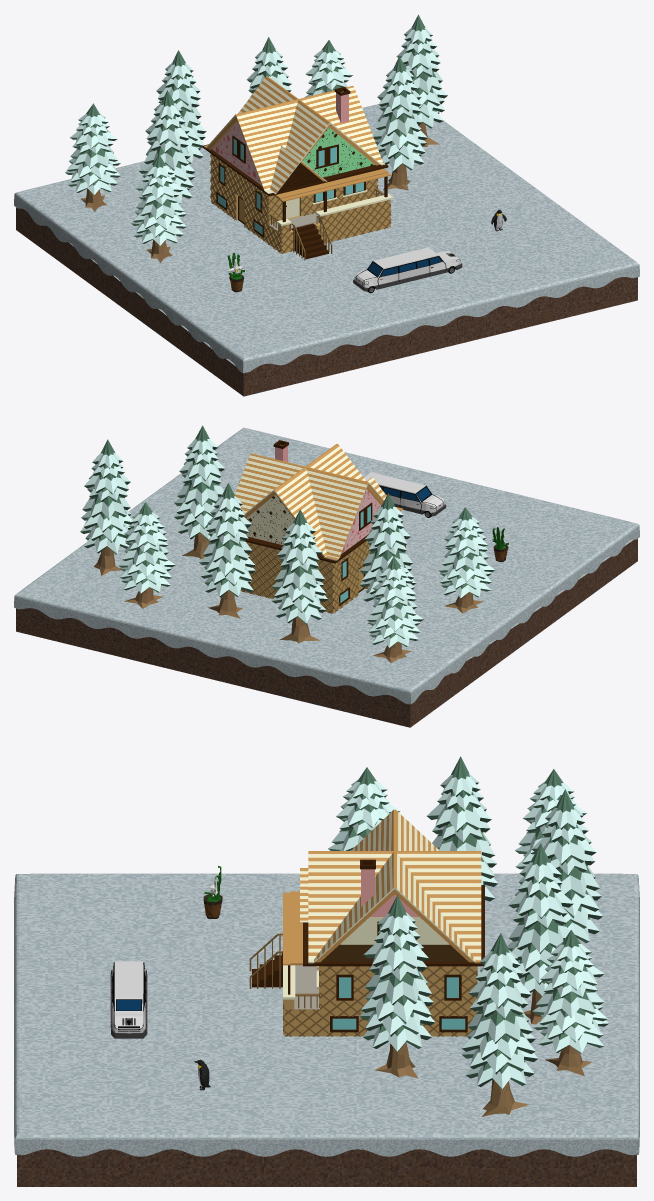
3 views of the same model, one above another, from view 1: azimuth 30°, elevation 25°; view 2: azimuth 150°, elevation 25°; view 3: azimuth 270°, elevation 25° (orthographic). The views are drawn at different scales.
Parts seen in each view (by area): view 1: Cube.003, Cube.1102, VEHICLES_LIMOUSINE; view 2: Cube.003, Cube.1102, VEHICLES_LIMOUSINE; view 3: Cube.003, Cube.1102, VEHICLES_LIMOUSINE, OBJRANDOM_MONJA BLANCA.
Part boxes in pixels (x1,y1,x2,y2): Cube.003: (14, 14, 639, 396); Cube.1102: (202, 76, 393, 260); VEHICLES_LIMOUSINE: (353, 247, 462, 293); Cube.003: (14, 425, 639, 727); Cube.1102: (234, 440, 405, 613); VEHICLES_LIMOUSINE: (364, 472, 446, 517); Cube.003: (14, 756, 639, 1186); Cube.1102: (249, 809, 484, 1036); VEHICLES_LIMOUSINE: (110, 961, 147, 1038); OBJRANDOM_MONJA BLANCA: (203, 866, 222, 918).
Size of the model in its own units: 4040 by 1665 by 4040.
Materials: 31 (4 with a texture image).
